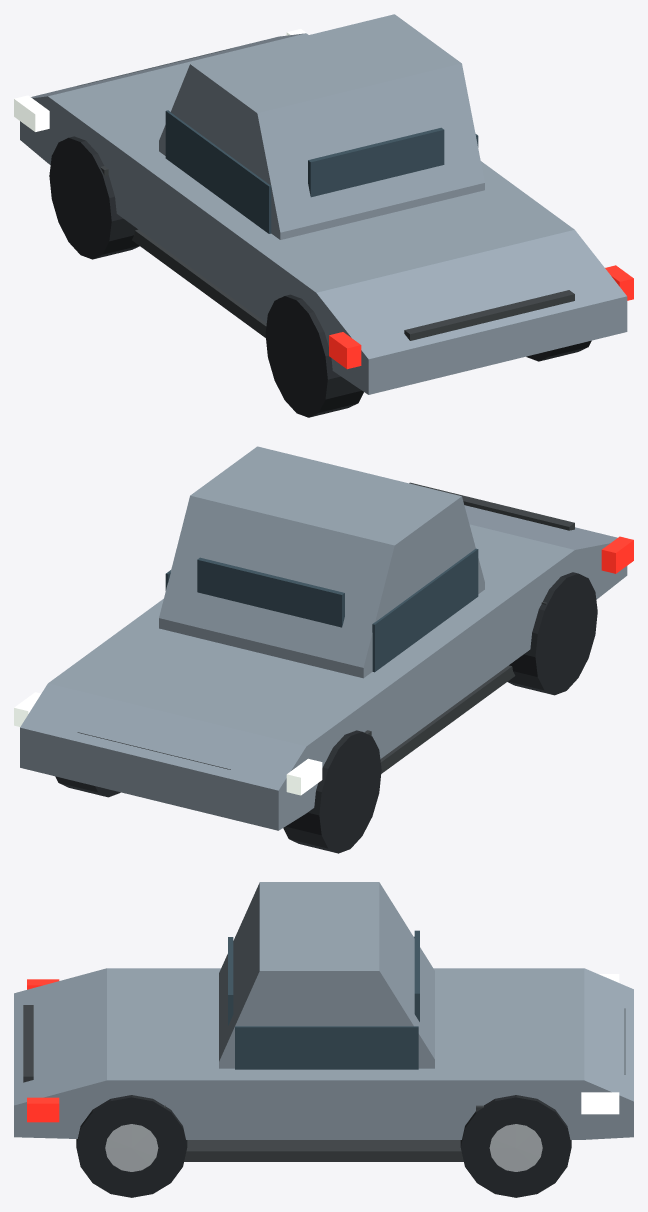
Rendered from honda-cr-v-l.glb.
The picture shows the model from 3 angles, top to bottom: view 1: azimuth 30°, elevation 25°; view 2: azimuth 150°, elevation 25°; view 3: azimuth 270°, elevation 25°; orthographic projection. The views are drawn at different scales.
Visible parts, largest first — view 1: honda-cr-v-l illustrative model; view 2: honda-cr-v-l illustrative model; view 3: honda-cr-v-l illustrative model.
Boxes of the visible parts, left/top/right/bottom form: honda-cr-v-l illustrative model: left=14, top=14, right=633, bottom=417; honda-cr-v-l illustrative model: left=14, top=446, right=633, bottom=853; honda-cr-v-l illustrative model: left=14, top=882, right=633, bottom=1197.
Size of the model in its own units: 2.02 by 1.61 by 4.25.
